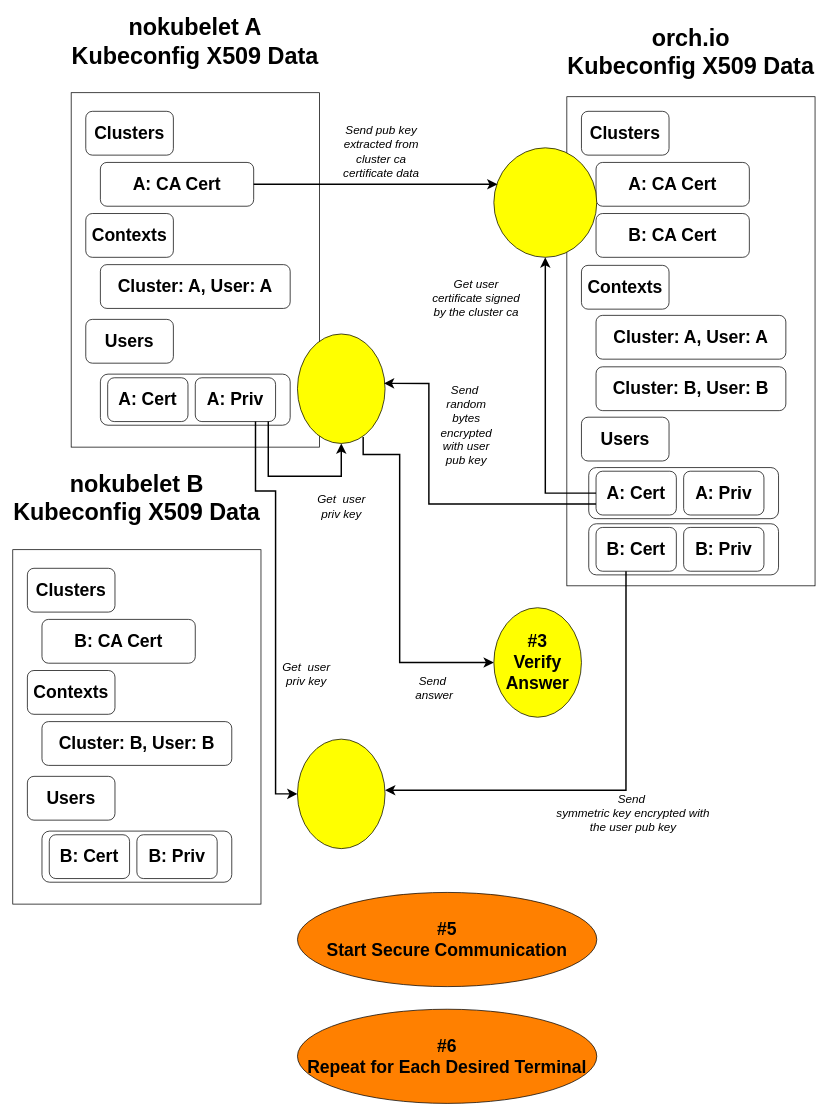
Image size: 828x1116. Some labels were removed from this diagram. The box of each missing label's shape, as (x1, y1, x2, y2) in pixels:
#1 Verify Certificate: (493, 147, 597, 257)
#2 Decrypt Challenge: (297, 333, 385, 443)
#4 Decrypt Symmetric Key: (297, 738, 385, 849)
